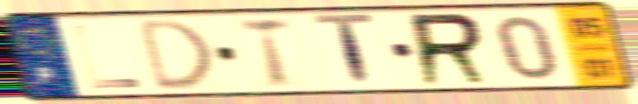0: (491, 13, 564, 82)
D: (135, 16, 217, 94)
L: (69, 22, 146, 91)
R: (405, 10, 495, 89)
T: (309, 11, 379, 91), (235, 16, 296, 90)
